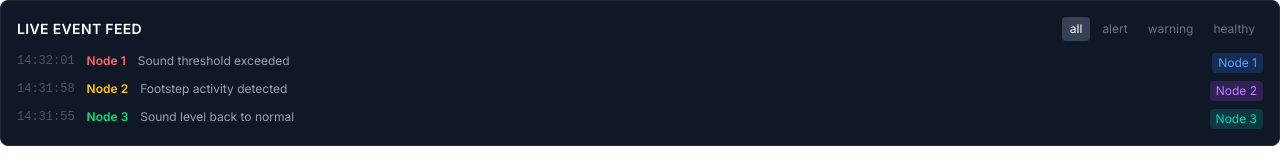
Test: EventFeed › filters to only alert events when alert is clicked
The width and height of the screenshot is (1280, 163).
Click the button "alert".
click(1115, 29)  # box [1094,17,1136,41]
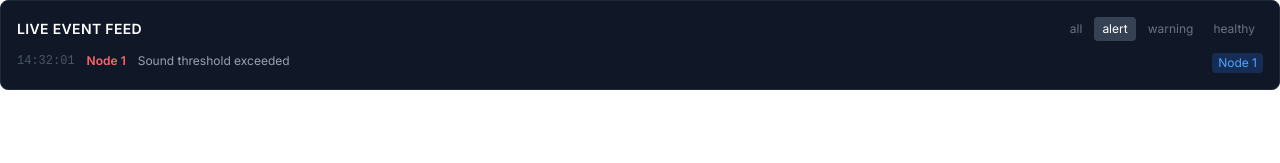
Expected: the text "Sound threshold exceeded" is shown, [138,53,290,69]
Now the text "Footstep activity detected" is gone
Now the text "Sound level back to normal" is gone
